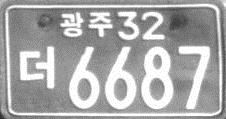2: (141, 10, 165, 41)
3: (116, 9, 139, 41)
6: (66, 44, 101, 110), (104, 44, 137, 111)
7: (176, 43, 213, 112)
8: (138, 45, 174, 110)
광주_O: (57, 9, 113, 39)
더: (17, 44, 56, 91)
